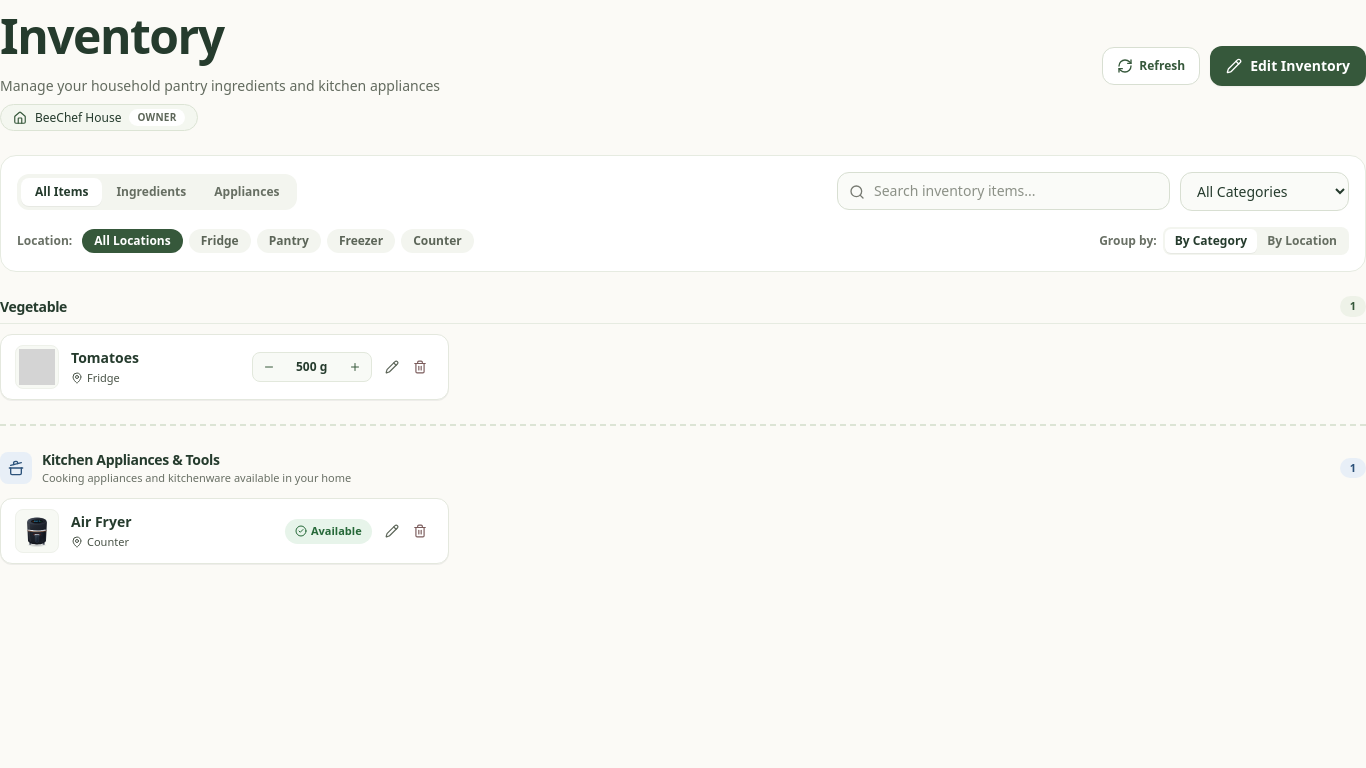
Test: InventoryPage UI and API integration › adds a catalog item through the in-page edit mode with collapsed categories
This screenshot has width=1366, height=768.
Expected: the heading "Tomatoes" is shown, [71, 348, 139, 367]
Note: Enter edit mode (no dialog is opened)
Click the button "Edit Inventory": [1288, 66] box [1210, 46, 1365, 86]
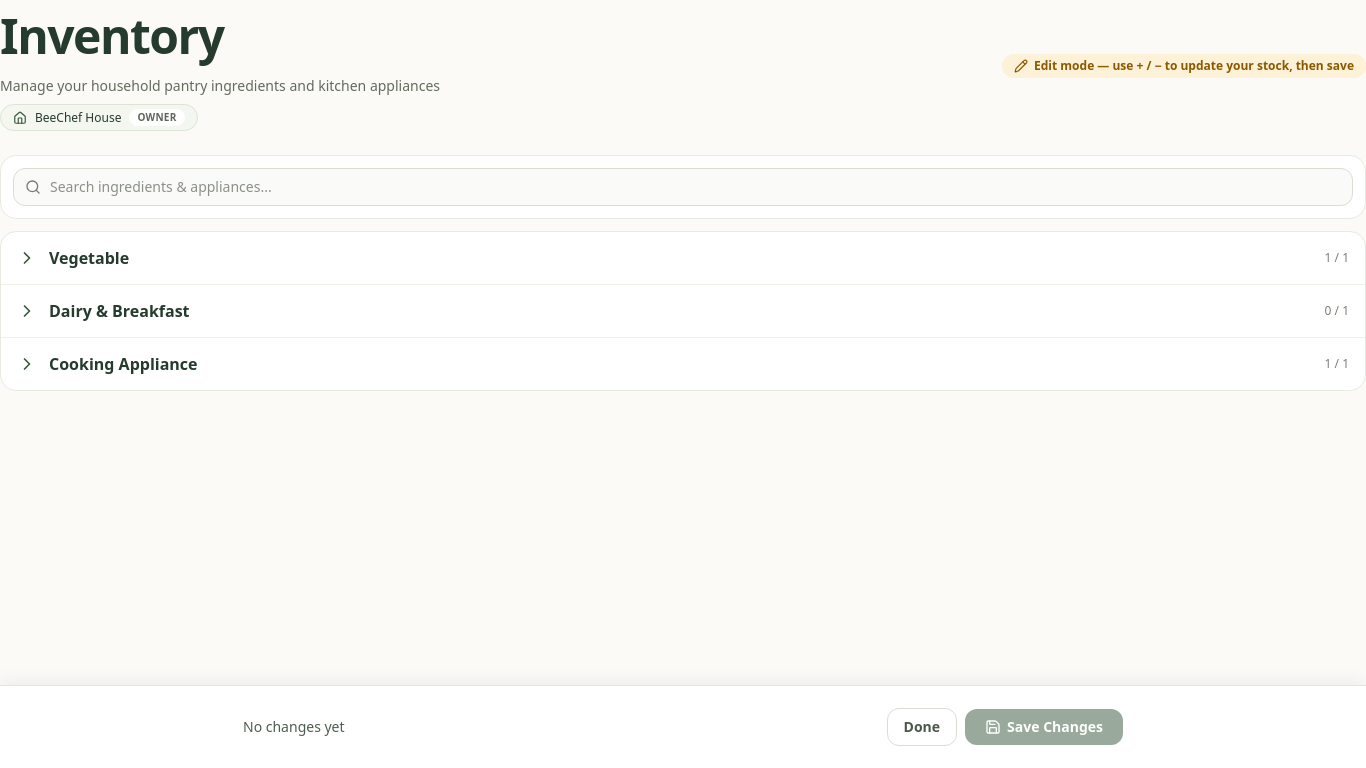
Expected: the text "Milk" is not shown
Click the button "Dairy & Breakfast 0 / 1": [119, 311] box [1, 285, 1365, 337]
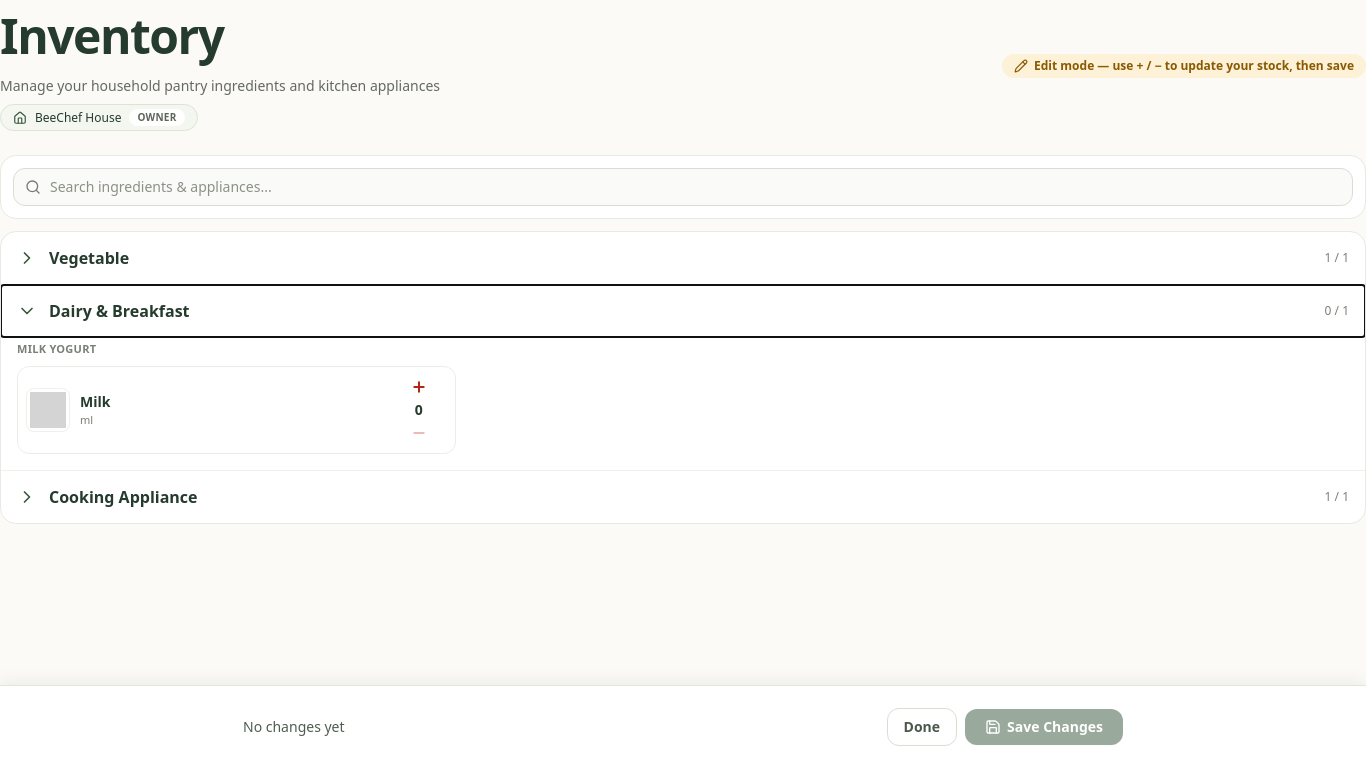
Now the button "Dairy & Breakfast 0 / 1" is expanded, box [1, 285, 1365, 337]
Click the button named "Increase Milk": [419, 387] box [403, 375, 435, 399]
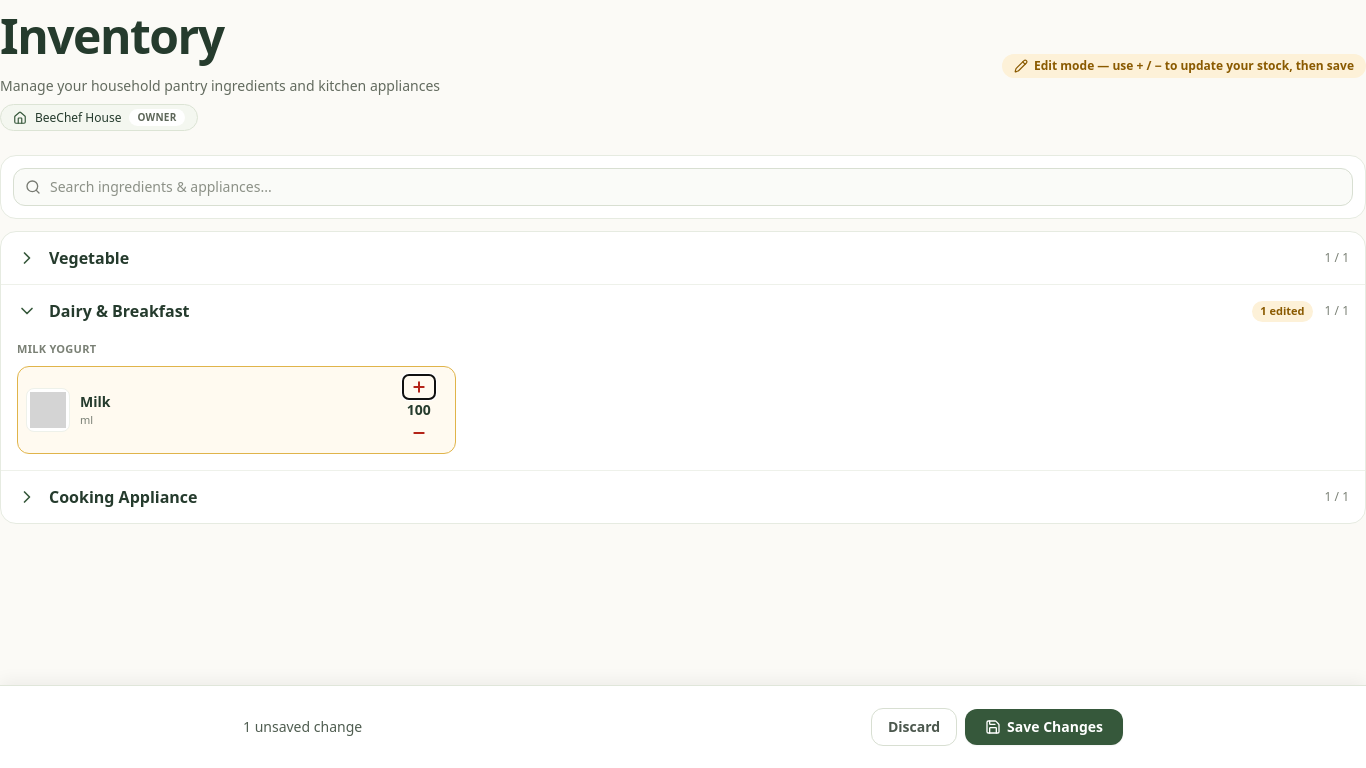
Click the button named "Increase Milk": [419, 387] box [403, 375, 435, 399]
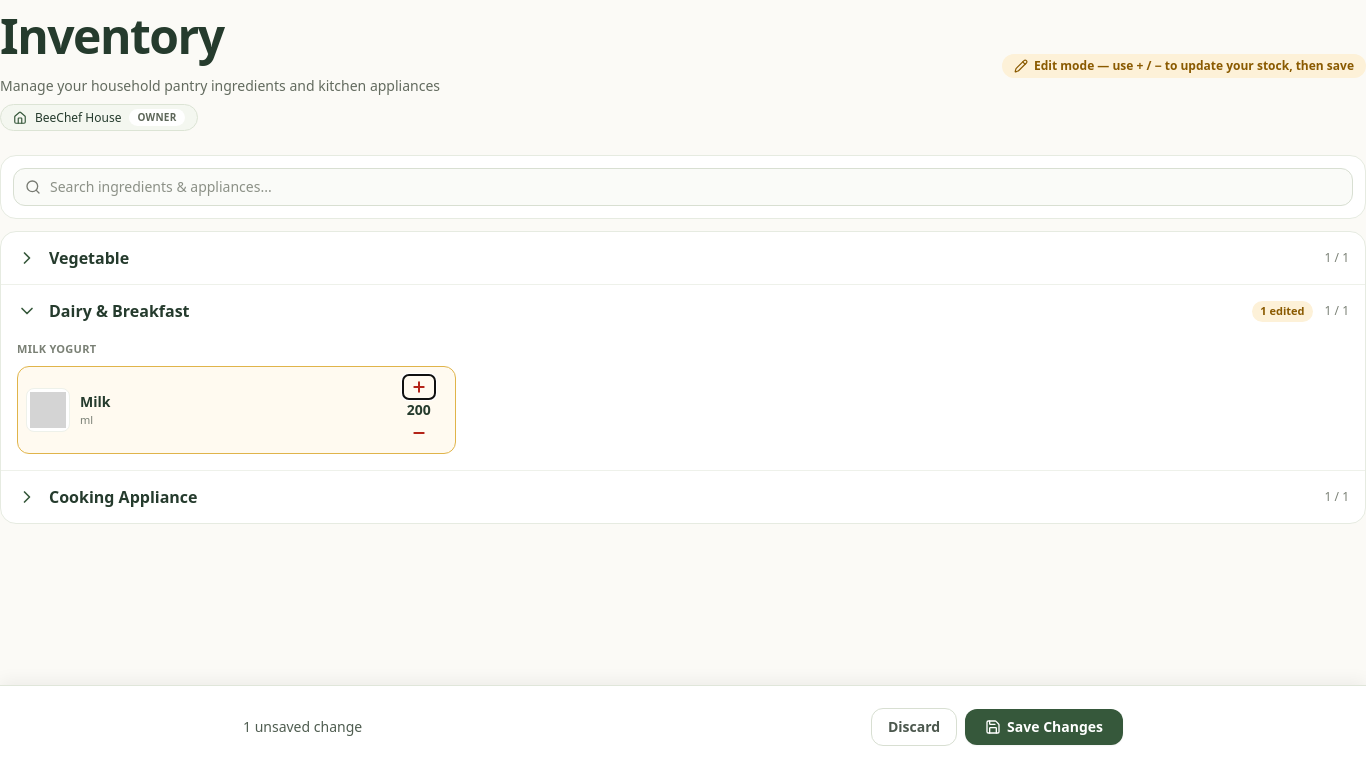
Now the text "1 unsaved change" is shown, box [243, 717, 362, 737]
Now the number field named "Milk quantity" holds "200", box [391, 399, 447, 421]
Click the button "Save Changes": [1044, 727] box [965, 709, 1123, 745]
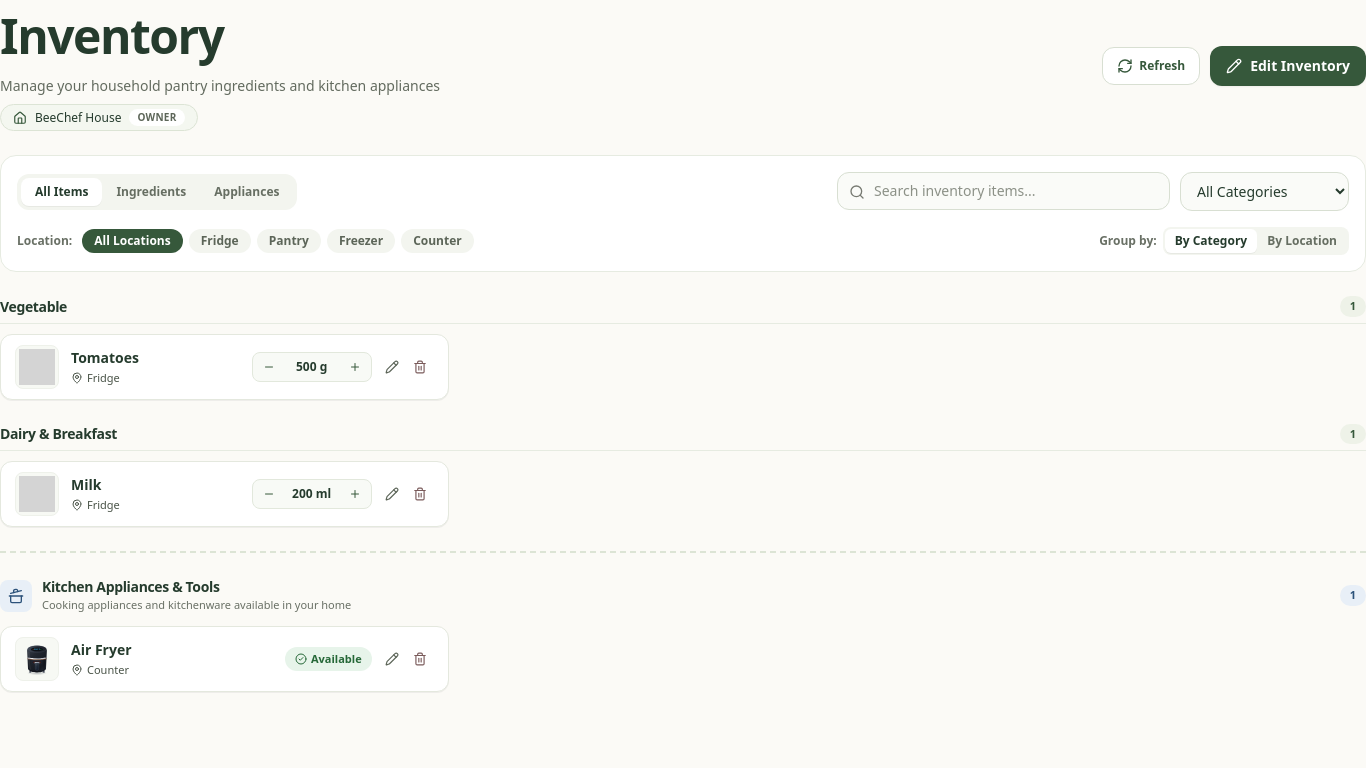
Now the heading "Milk" is shown, box [71, 475, 101, 494]
Now the text "200 ml" is shown, box [292, 485, 331, 502]
